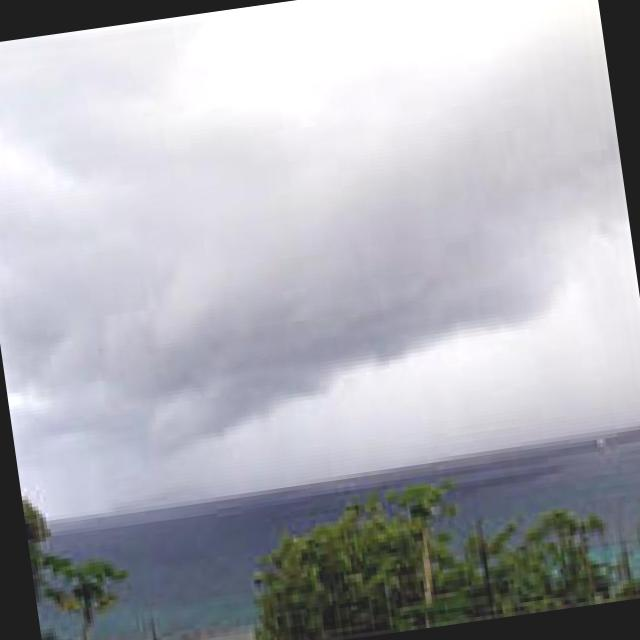nimbostratus: (0, 0, 640, 526)
